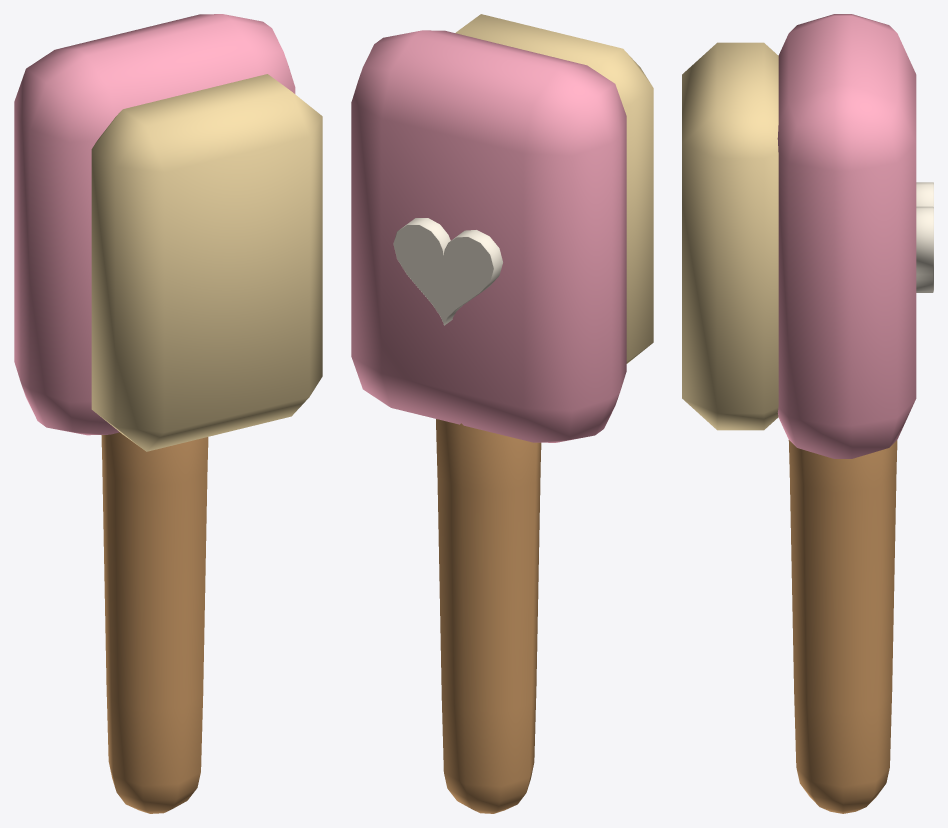
File: item_brush.glb
3 renders of one model, left to right at view 1: azimuth 30°, elevation 25°; view 2: azimuth 150°, elevation 25°; view 3: azimuth 270°, elevation 25°, orthographic. The views are drawn at different scales.
Visible parts, largest first — view 1: item_brush; view 2: item_brush; view 3: item_brush.
Boxes of the visible parts, x1,y1,x2,y2 form: item_brush: [14, 14, 322, 813]; item_brush: [351, 14, 653, 813]; item_brush: [682, 14, 933, 813].
Bounding box in the file's own units: 0.1 × 0.286 × 0.086.
